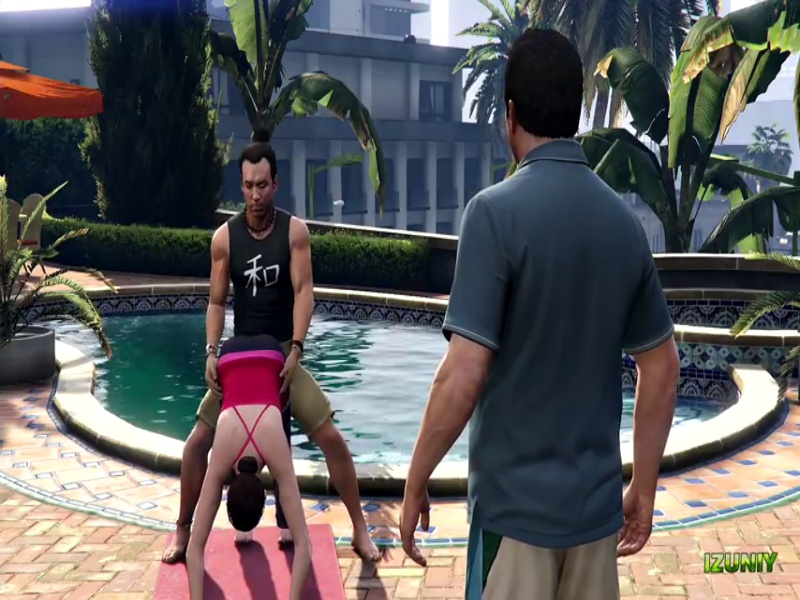human: (394, 24, 681, 600)
